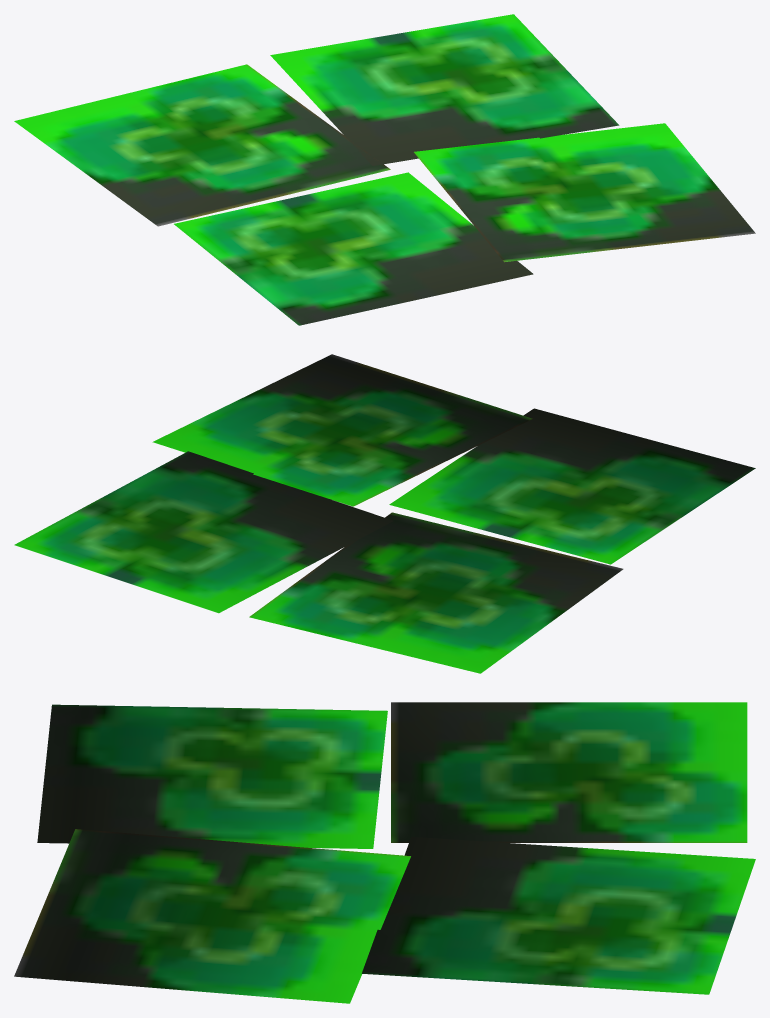
The model's file is fg_grassE.dae.
3 views of the same model, one above another, from view 1: azimuth 30°, elevation 25°; view 2: azimuth 150°, elevation 25°; view 3: azimuth 270°, elevation 25° (orthographic). The views are drawn at different scales.
Parts seen in each view (by area): view 1: fg_grassE; view 2: fg_grassE; view 3: fg_grassE.
Part boxes in pixels (x1,y1,x2,y2): fg_grassE: (14, 14, 755, 325); fg_grassE: (14, 354, 755, 673); fg_grassE: (14, 702, 755, 1003).
Bounding box in the file's own units: 23.5 × 0.3916 × 24.87.
1 material, 1 textured.
